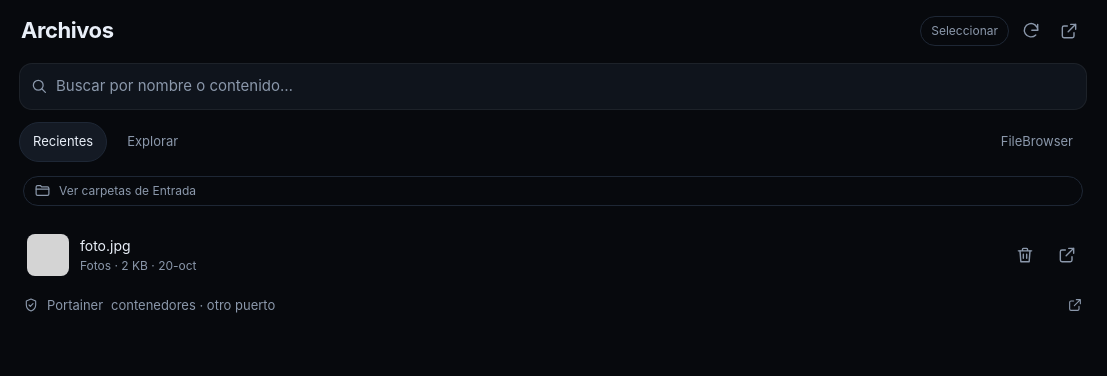
Test: Files · panel NAS nativo › busca y muestra el fragmento de contenido
Expected: the text "foto.jpg" is shown, x1=80 y1=236 x2=131 y2=254
Type "router" into the search field named "Buscar en el NAS" at point(566, 86), box x1=56 y1=64 x2=1076 y2=108
Then press Enter
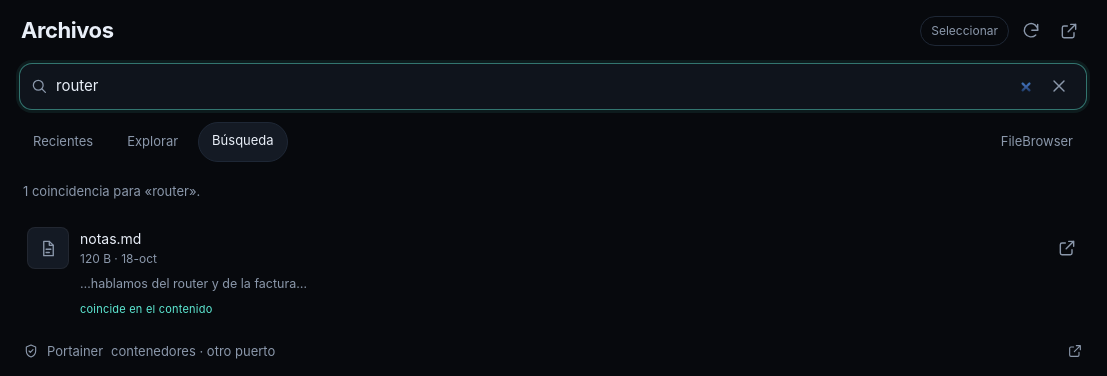
Result: the text "notas.md" is shown at x1=80 y1=230 x2=141 y2=247
Result: the text "…hablamos del router y de la factura…" is shown at x1=80 y1=276 x2=307 y2=291
